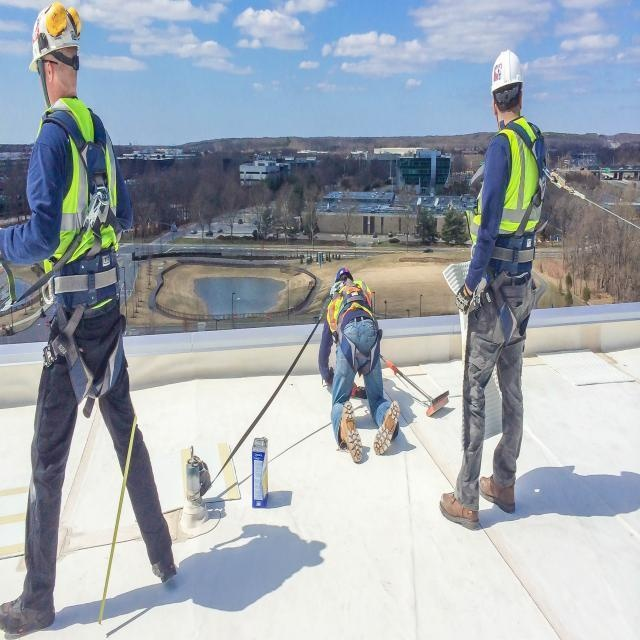Arnes_seguridad: (35, 101, 131, 408), (474, 114, 552, 341), (327, 279, 382, 379)
